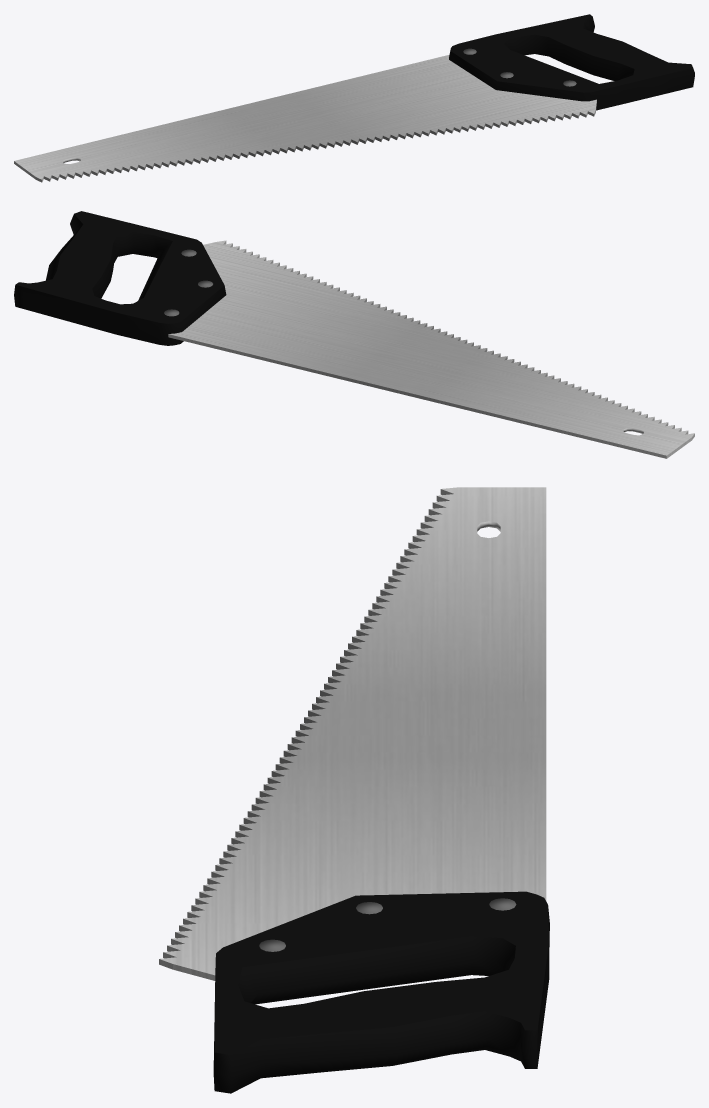
File: scie-egoine.obj
3 renders of one model, top to bottom at view 1: azimuth 30°, elevation 25°; view 2: azimuth 150°, elevation 25°; view 3: azimuth 270°, elevation 25°, orthographic. The views are drawn at different scales.
Visible parts, largest first — view 1: metal_Plane, handle_Cube.001; view 2: metal_Plane, handle_Cube.001; view 3: metal_Plane, handle_Cube.001.
Part boxes in pixels (x1=…): metal_Plane: x1=14, y1=54, x2=596, y2=182; handle_Cube.001: x1=449, y1=14, x2=694, y2=110; metal_Plane: x1=168, y1=240, x2=694, y2=458; handle_Cube.001: x1=14, y1=211, x2=226, y2=345; metal_Plane: x1=159, y1=487, x2=546, y2=980; handle_Cube.001: x1=213, y1=891, x2=549, y2=1093.
Size of the model in its own units: 61.56 by 2.02 by 17.3.
3 materials, 1 textured.
